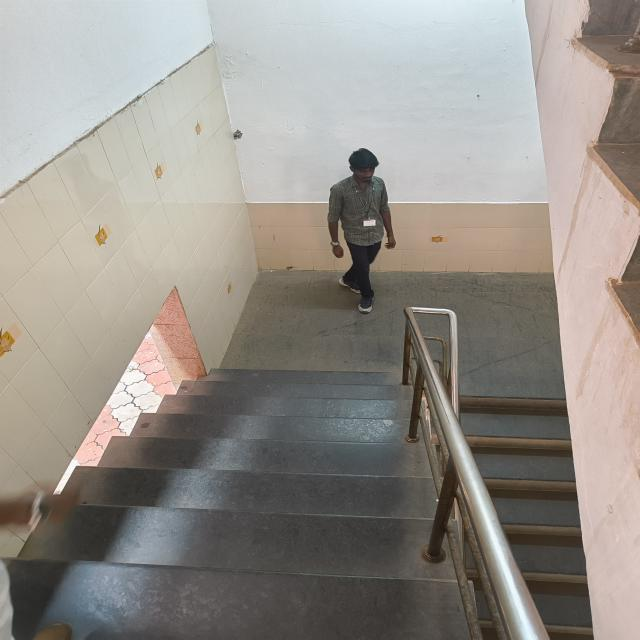id_card: (359, 186, 379, 228)
